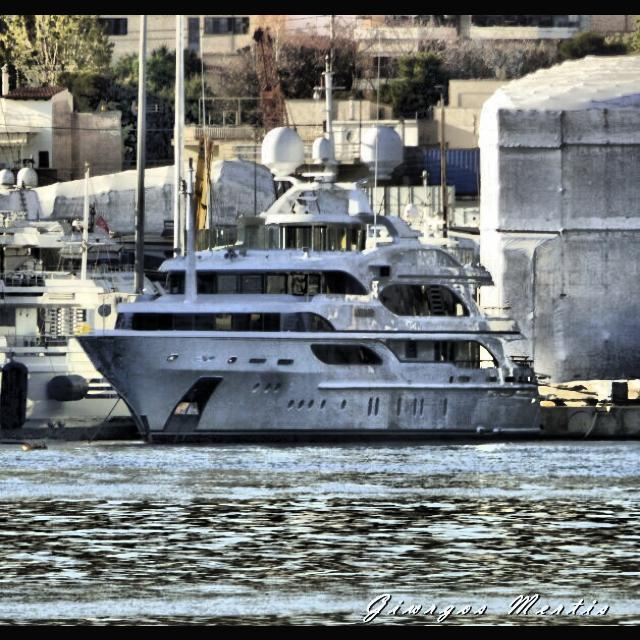yacht: (72, 121, 548, 447)
